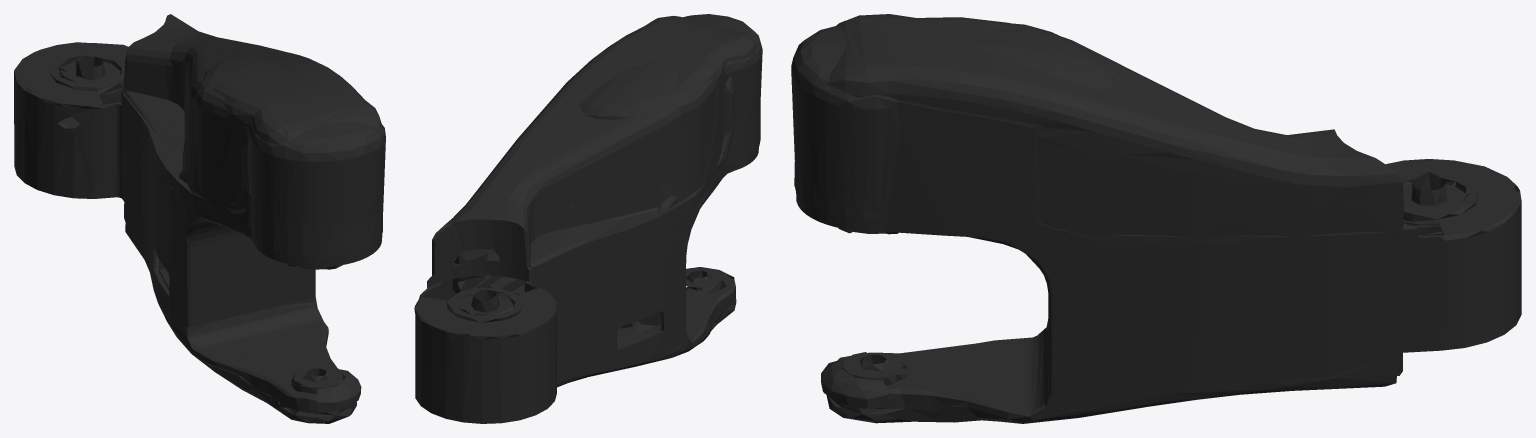
The model's file is hip_y_lo_res.dae.
3 views of the same model, side by side, from view 1: azimuth 30°, elevation 25°; view 2: azimuth 150°, elevation 25°; view 3: azimuth 270°, elevation 25° (orthographic). The views are drawn at different scales.
Parts seen in each view (by area): view 1: node; view 2: node; view 3: node.
Boxes of the visible parts, <box> form: node: <box>14,14,385,423</box>; node: <box>414,14,762,423</box>; node: <box>791,14,1521,423</box>.
Size of the model in its own units: 0.1369 by 0.2776 by 0.5007.
1 material, 1 textured.
